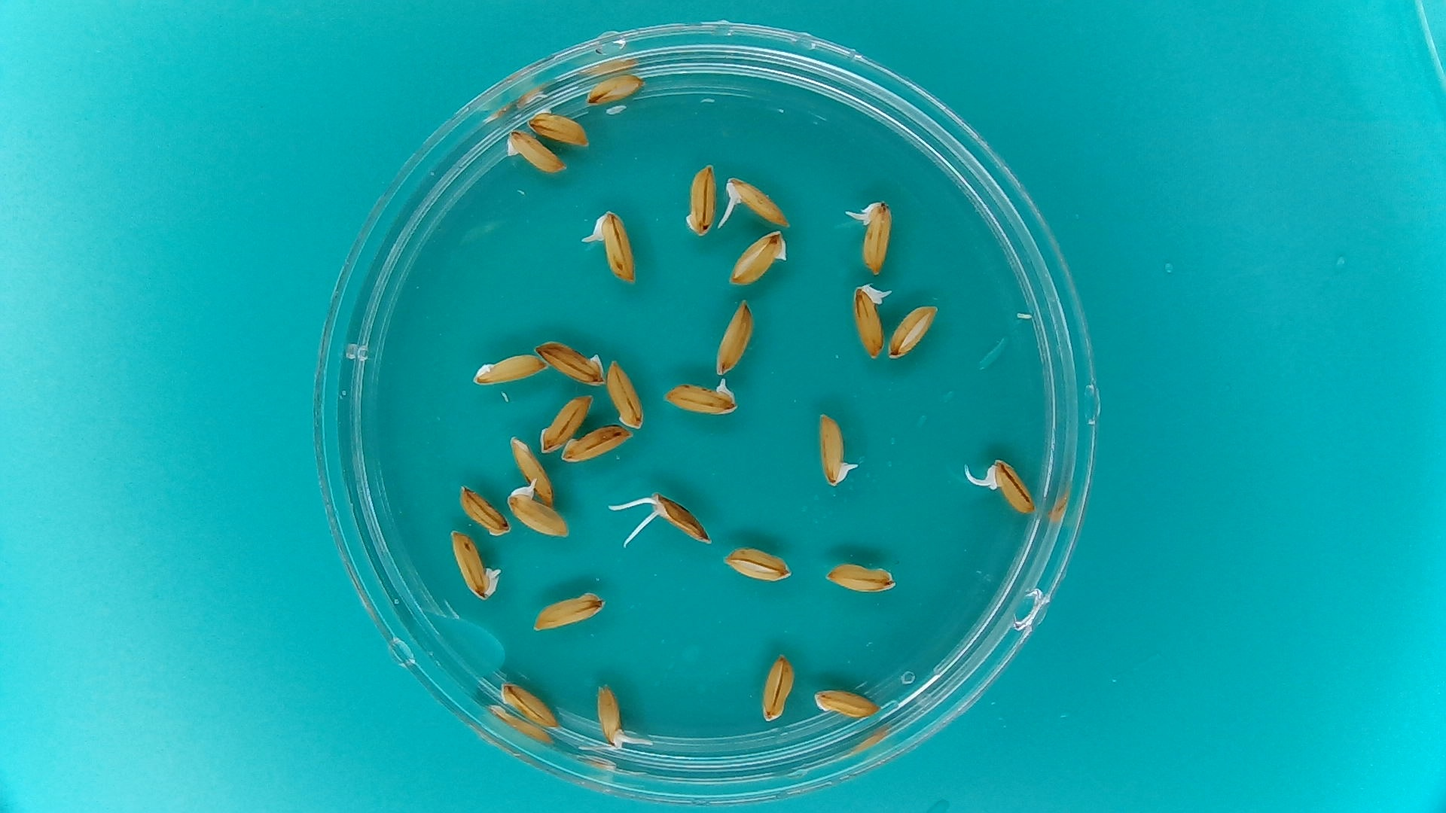no: (716, 227, 790, 288), (510, 106, 599, 151), (531, 337, 605, 386), (529, 589, 609, 634), (537, 390, 592, 454), (496, 678, 563, 730), (508, 433, 556, 505), (712, 297, 755, 376), (885, 300, 940, 359), (604, 355, 646, 430), (502, 126, 567, 174), (469, 349, 549, 387), (560, 421, 634, 462), (456, 483, 512, 537), (682, 159, 718, 240), (822, 558, 898, 595), (811, 686, 887, 723), (758, 650, 796, 723), (721, 545, 795, 582), (581, 69, 647, 106)
yes: (583, 206, 639, 288), (505, 479, 579, 539), (721, 172, 794, 229), (843, 196, 893, 279), (447, 527, 502, 601), (646, 487, 713, 545), (850, 280, 895, 361), (816, 410, 862, 489), (981, 455, 1037, 516), (660, 376, 740, 418), (594, 684, 633, 753)
